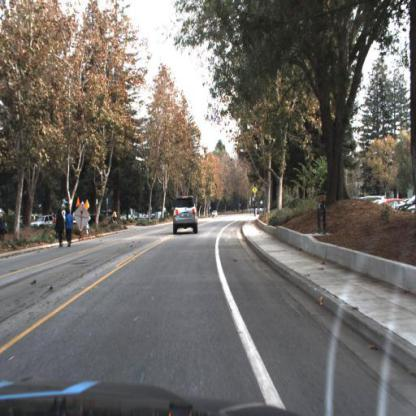car: (174, 195, 199, 235)
pedestrian: (66, 206, 74, 248), (57, 207, 65, 248)
